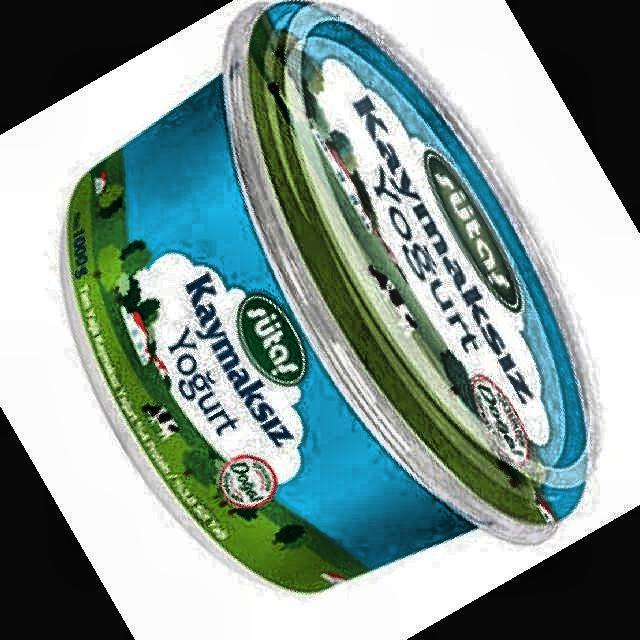plastic: (63, 0, 592, 592)
